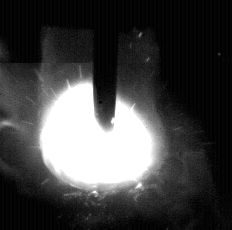arame: (94, 0, 117, 132)
poca: (39, 0, 166, 230)
